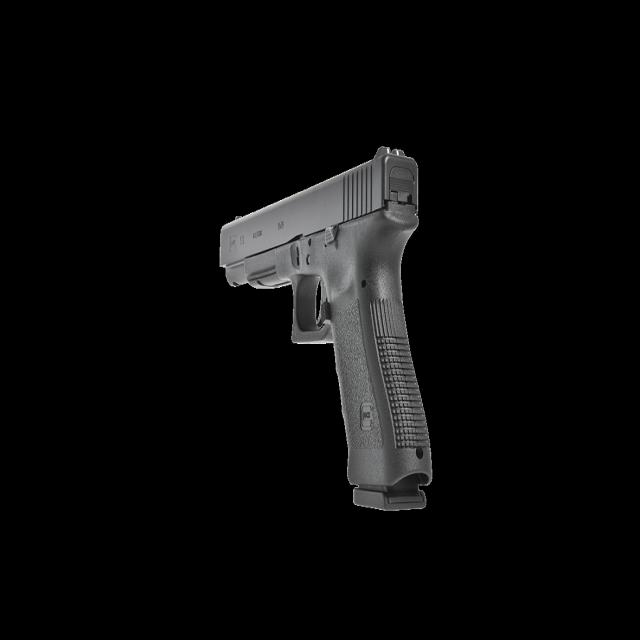HandGun: (220, 148, 434, 513)
